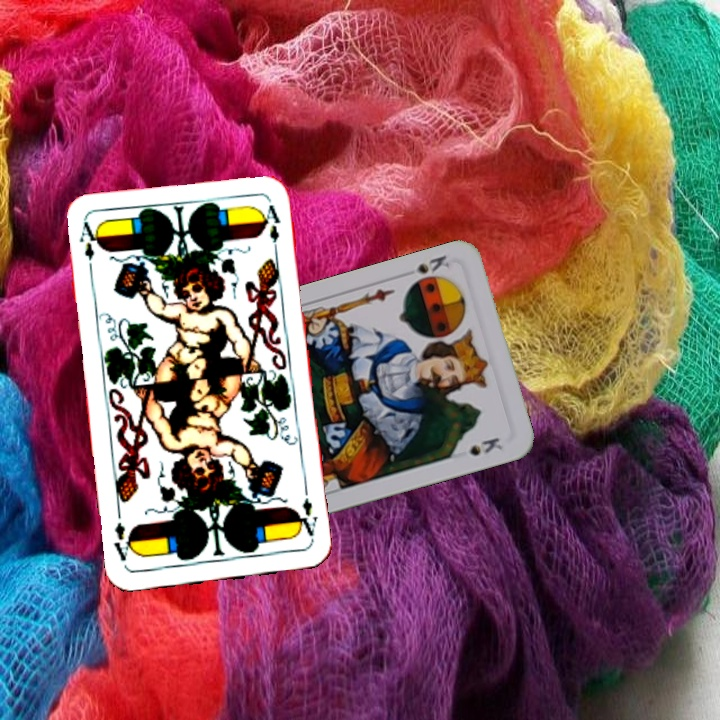EA: (292, 493, 320, 539), (75, 218, 101, 263)
SK: (399, 251, 452, 289)
